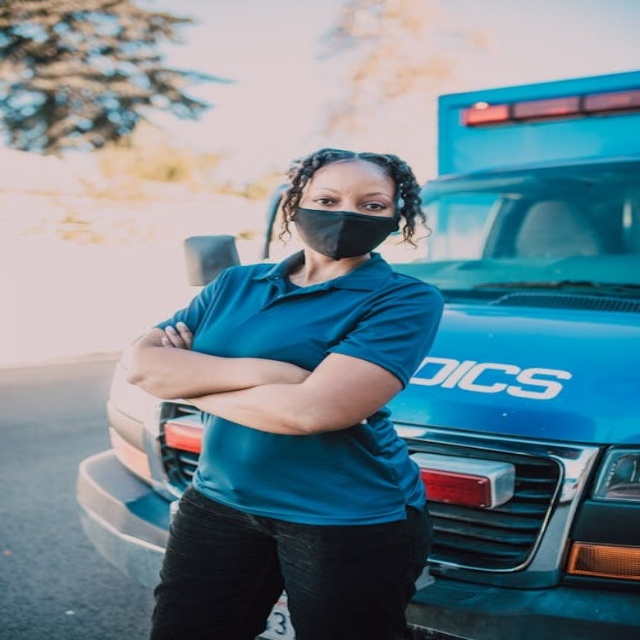Mascara: (292, 206, 398, 259)
Sin_gafas: (361, 202, 387, 211), (313, 197, 338, 206)
Sin_guantes: (153, 321, 194, 351)
